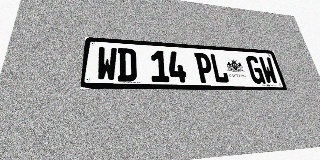1: (150, 50, 170, 82)
4: (167, 51, 187, 82)
D: (117, 48, 137, 82)
G: (245, 56, 266, 84)
L: (209, 53, 230, 83)
P: (194, 53, 214, 83)
W: (96, 47, 117, 81), (258, 57, 279, 84)
